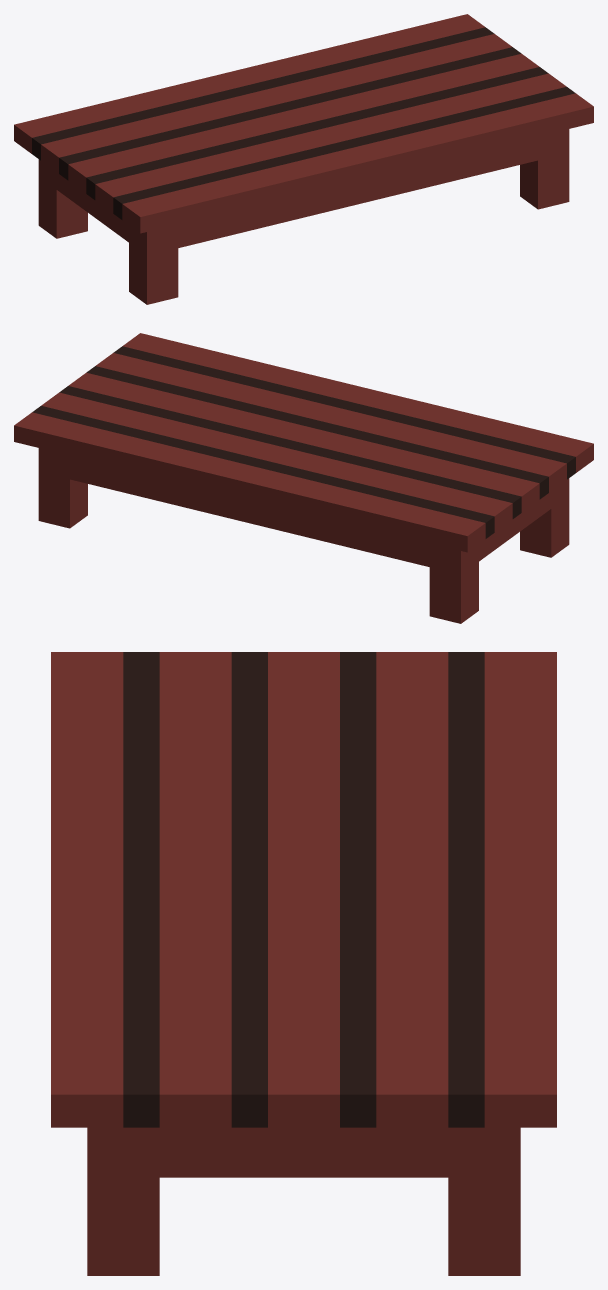
The model's file is large_table_b.obj.
The picture shows the model from 3 angles, top to bottom: view 1: azimuth 30°, elevation 25°; view 2: azimuth 150°, elevation 25°; view 3: azimuth 270°, elevation 25°; orthographic projection. The views are drawn at different scales.
Size of the model in its own units: 2.9 by 0.6 by 1.4.
1 material, 1 textured.
